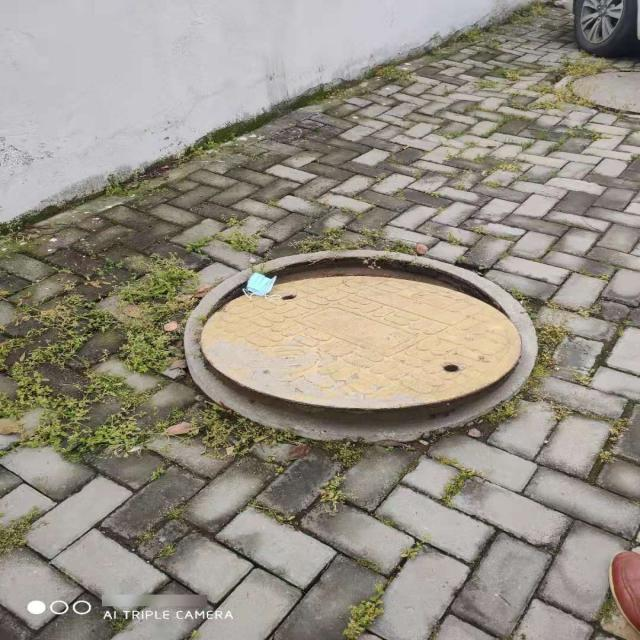Faulty: (182, 248, 540, 442)
